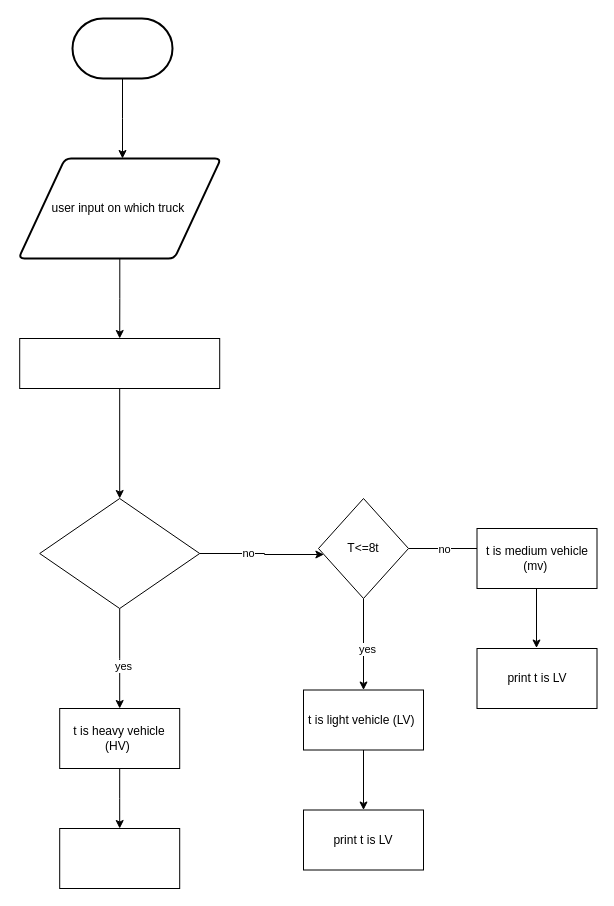
This 614x906 diagram has some shape labels left out. Each missing label, with the centre of its shape:
"print t is HV" belongs at pixel 119 858.
"Start" belongs at pixel 122 48.
"t >= 12t" belongs at pixel 119 553.
"truck selected = t" belongs at pixel 119 363.
